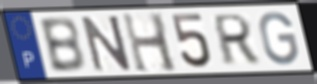5: (169, 11, 214, 70)
B: (37, 15, 88, 75)
G: (257, 10, 301, 68)
H: (120, 11, 181, 75)
N: (79, 13, 134, 74)
R: (212, 12, 261, 68)
